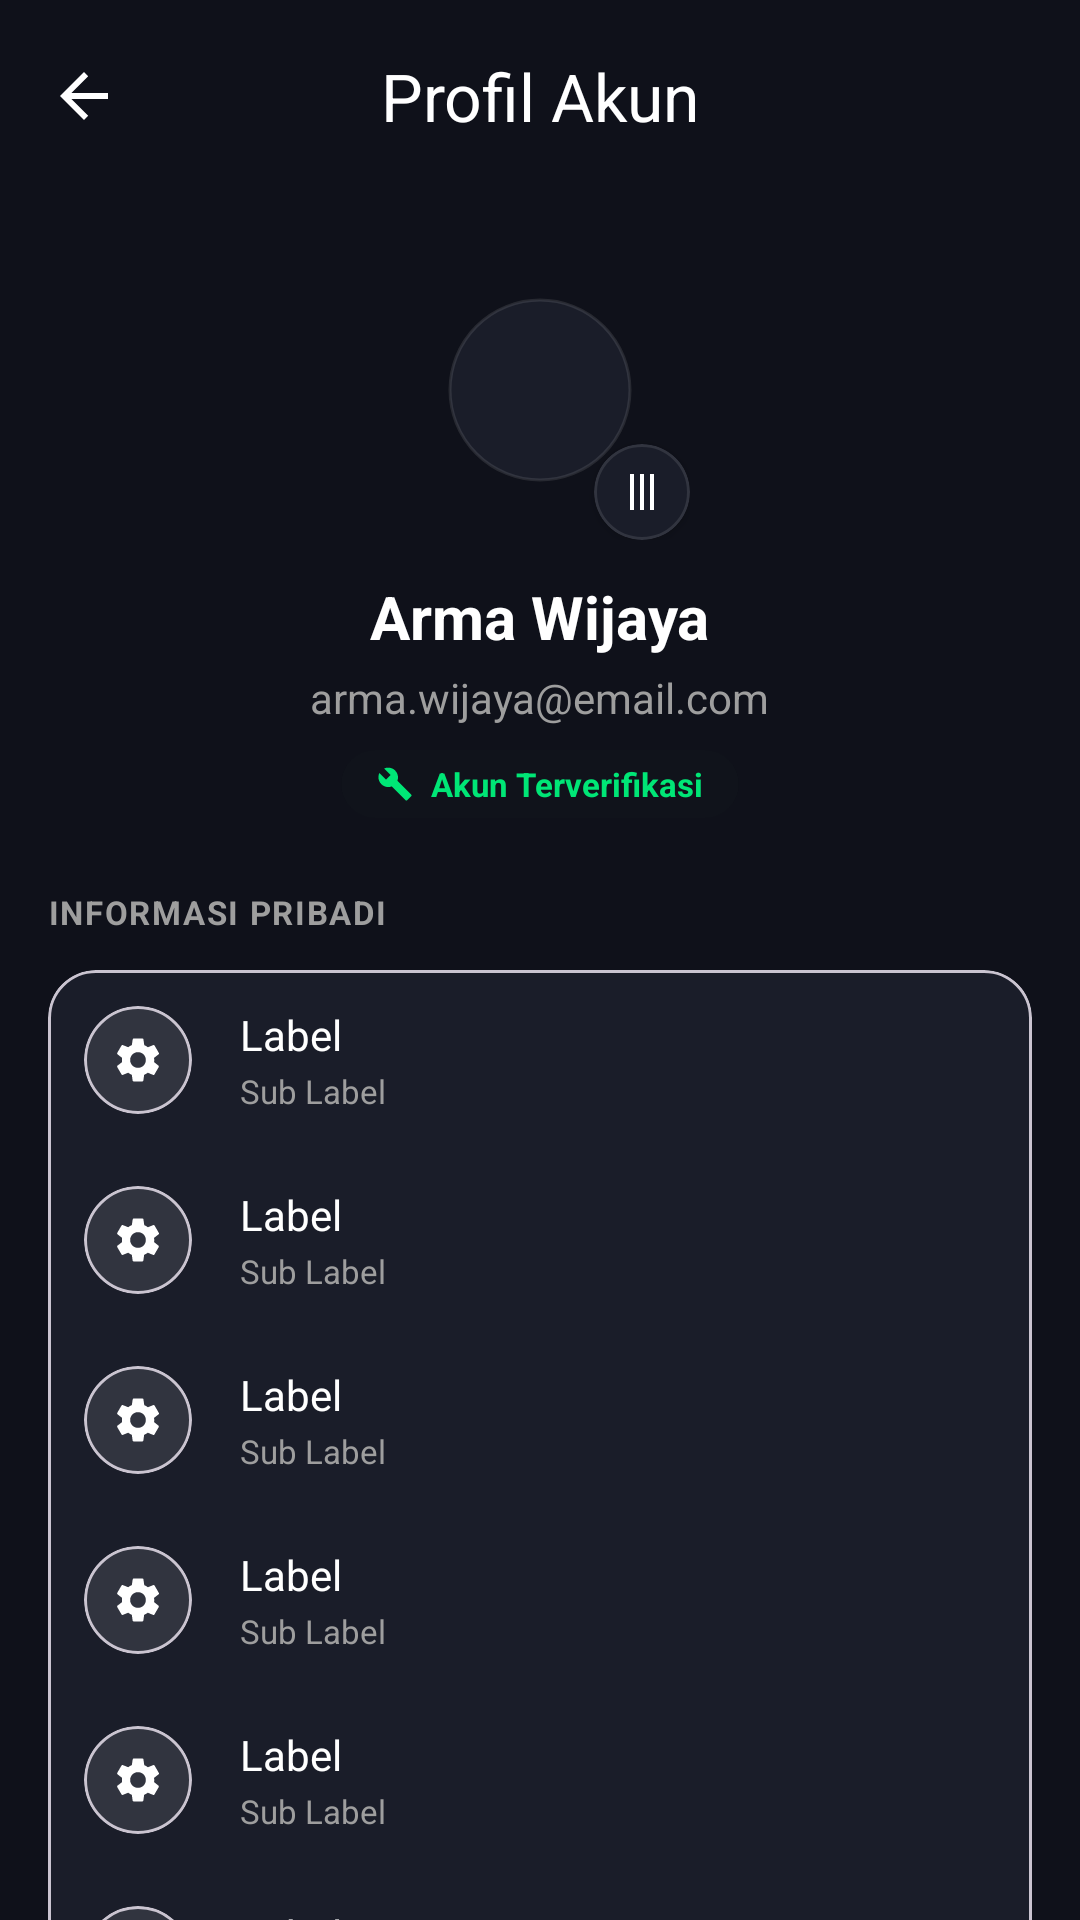

Named icons in this screenshot (1080px x 1920px) and their centers, (x,y):
build: (395,784)
settings: (138,1060), (138,1240), (138,1420), (138,1600), (138,1780)
